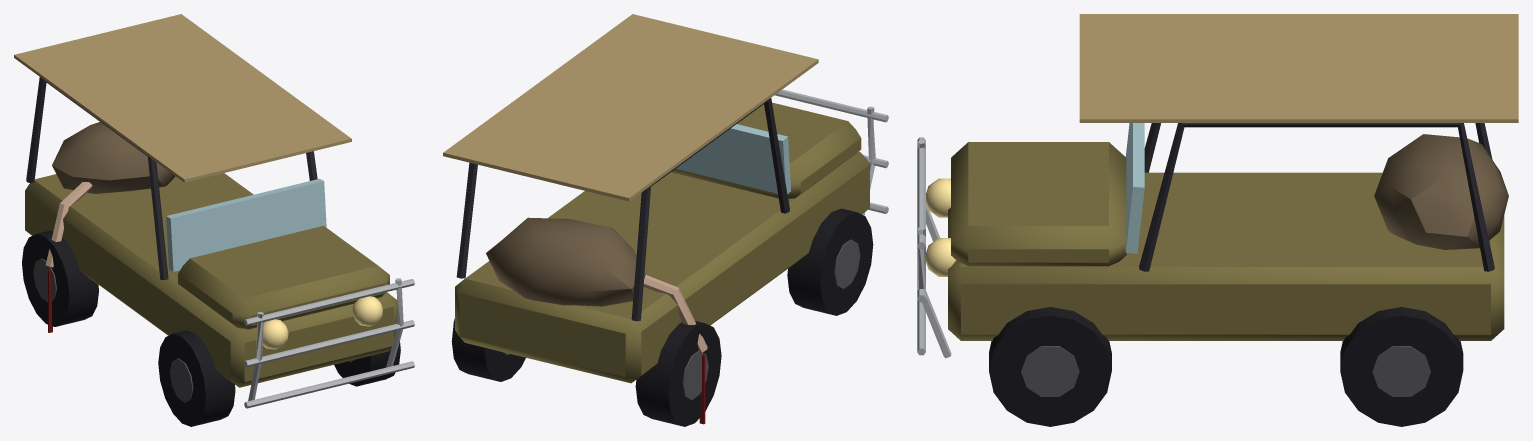
File: safari_jeep.glb
3 views of the same model, side by side, from view 1: azimuth 30°, elevation 25°; view 2: azimuth 150°, elevation 25°; view 3: azimuth 270°, elevation 25° (orthographic). The views are drawn at different scales.
Parts seen in each view (by area): view 1: safari_jeep; view 2: safari_jeep; view 3: safari_jeep.
Boxes of the visible parts, left/top/right/bottom form: safari_jeep: left=14, top=14, right=414, bottom=426; safari_jeep: left=443, top=14, right=888, bottom=426; safari_jeep: left=917, top=14, right=1518, bottom=426.
Bounding box in the file's own units: 2.05 × 2.3 × 4.11.
